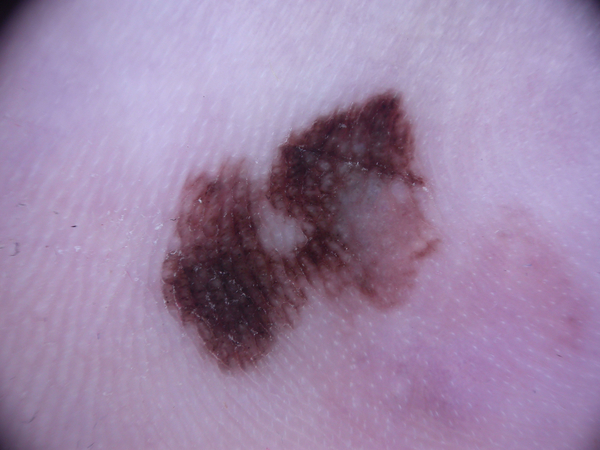Detected Lesion: (157, 90, 439, 374)
